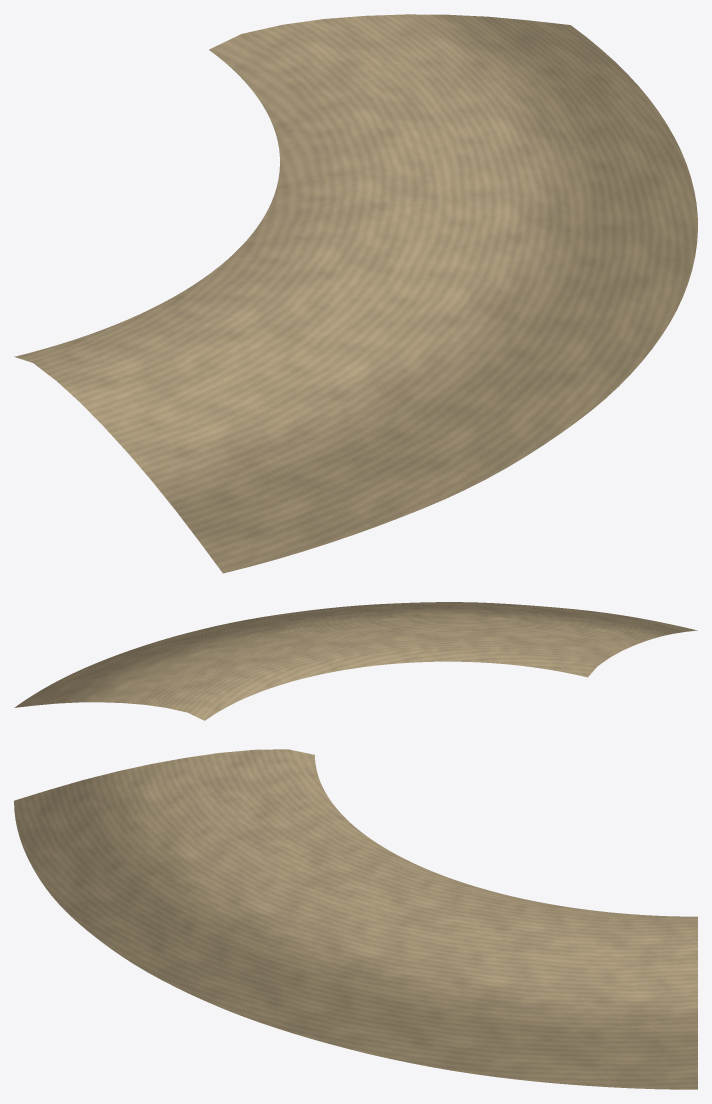
File: beach_sand_outer_v5_summer.glb
The picture shows the model from 3 angles, top to bottom: view 1: azimuth 30°, elevation 25°; view 2: azimuth 150°, elevation 25°; view 3: azimuth 270°, elevation 25°; orthographic projection. The views are drawn at different scales.
Visible parts, largest first — view 1: beach_sand_outer; view 2: beach_sand_outer; view 3: beach_sand_outer.
Part boxes in pixels (x1,y1,x2,y2): beach_sand_outer: (14,14,697,573); beach_sand_outer: (14,602,697,720); beach_sand_outer: (14,749,697,1089).
Bounding box in the file's own units: 10 × 0.8495 × 10.
1 material, 1 textured.
